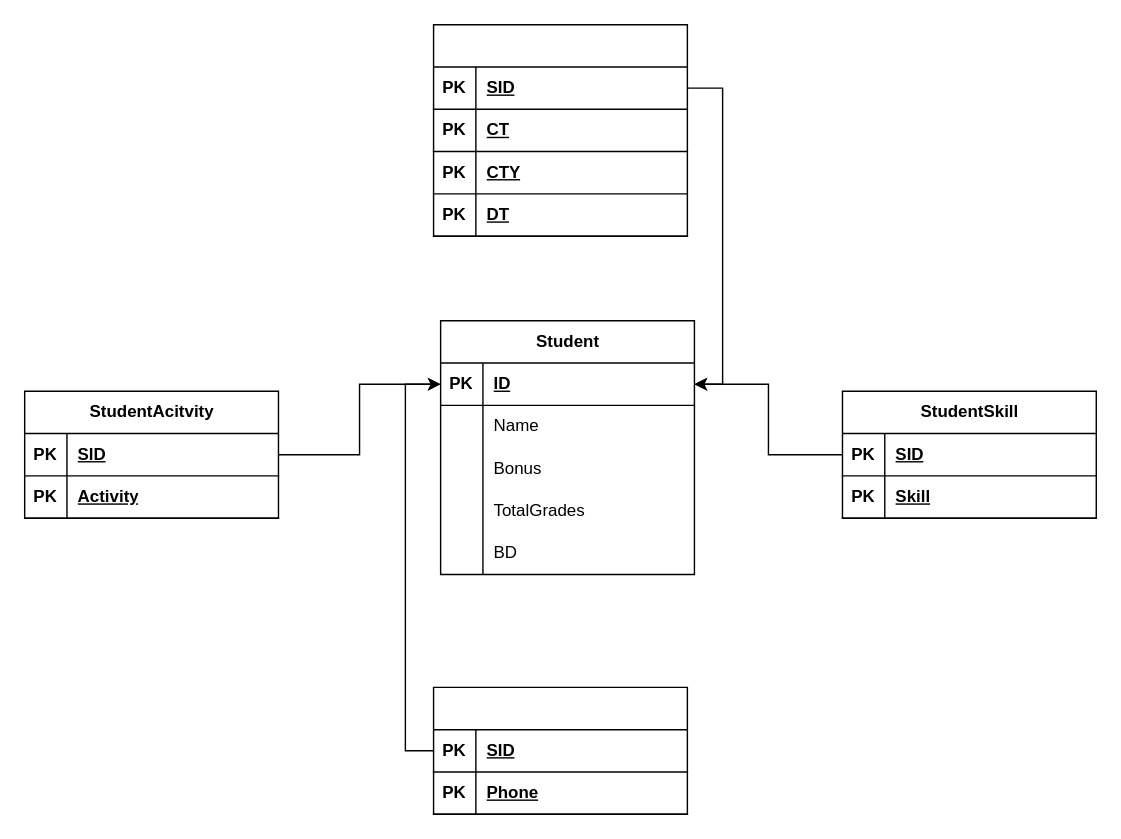
Image size: 1121x839. Some labels were removed from this diagram. The box of each missing label's shape, as (x1, y1, x2, y2) in pixels:
StudentAddresse: (432, 23, 687, 236)
StudentPhone: (432, 686, 687, 814)
